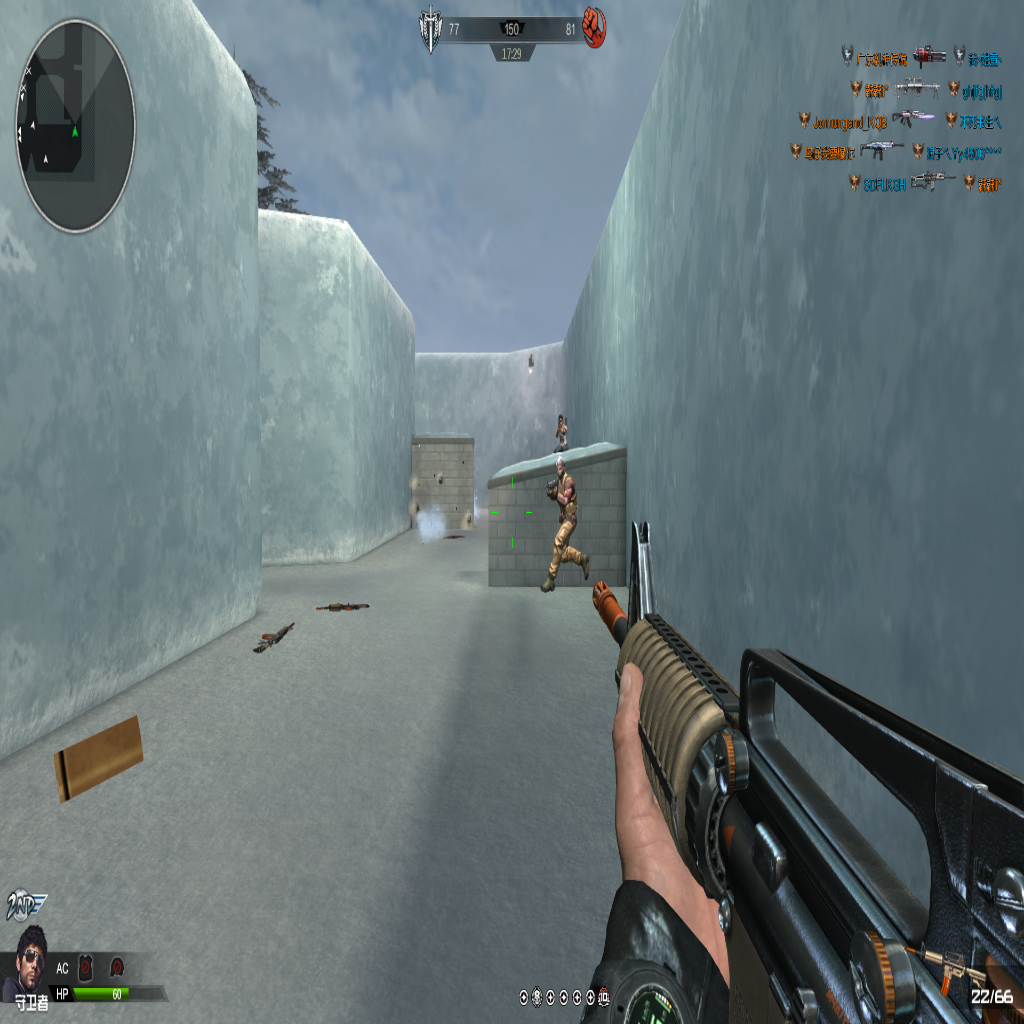tt: (542, 456, 591, 598), (555, 413, 569, 449)
